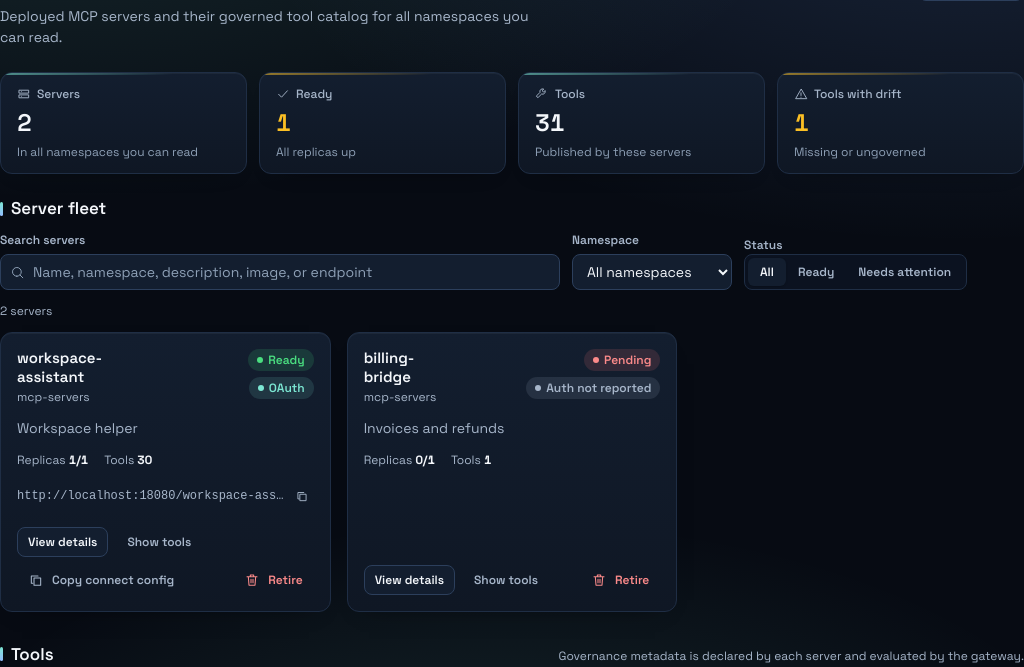
filter dependencies › drops the server scope when the status filter hides that server
Expected: the list with test id "server-list" is shown, [0, 332, 677, 612]
Click the button with test id "server-card-select" below "0/1".
click(506, 580)  # box [463, 565, 549, 595]
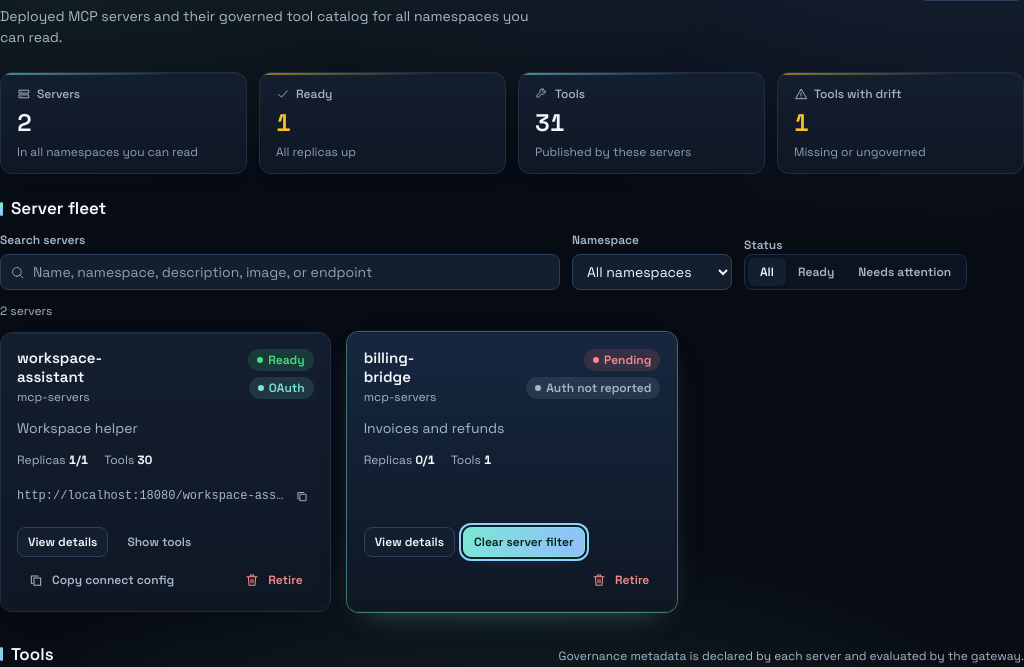
Ready-only hides billing-bridge, so its tool scope must not survive.
Click the button with test id "server-status-ready".
click(816, 272)  # box [786, 258, 846, 286]
(page scrolled)
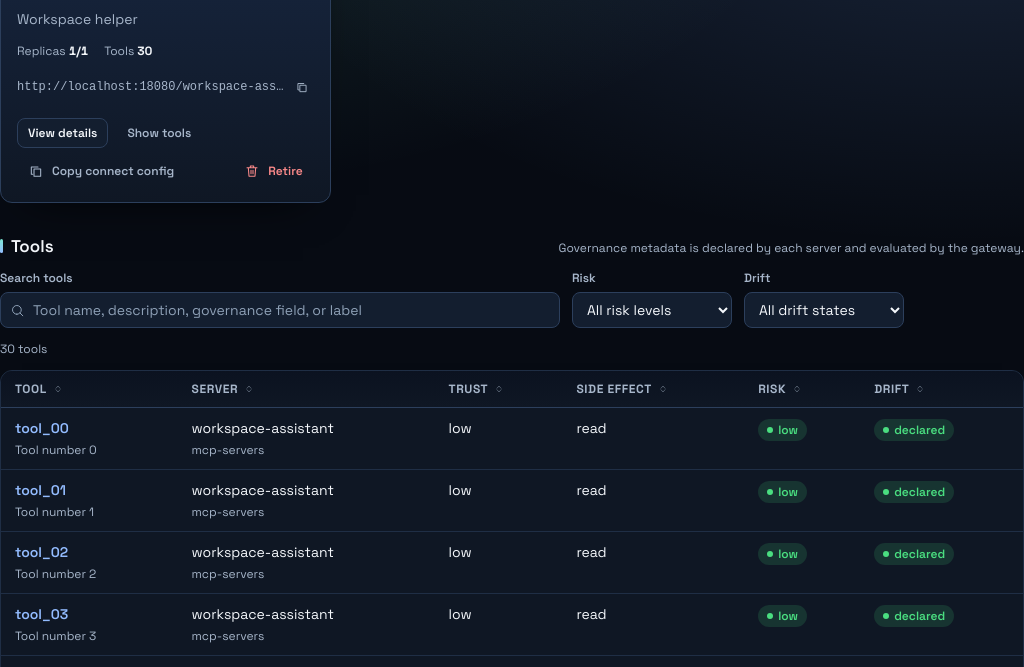
Result: the element with test id "catalog-summary" reads "30 tools" at [0, 341, 47, 357]
